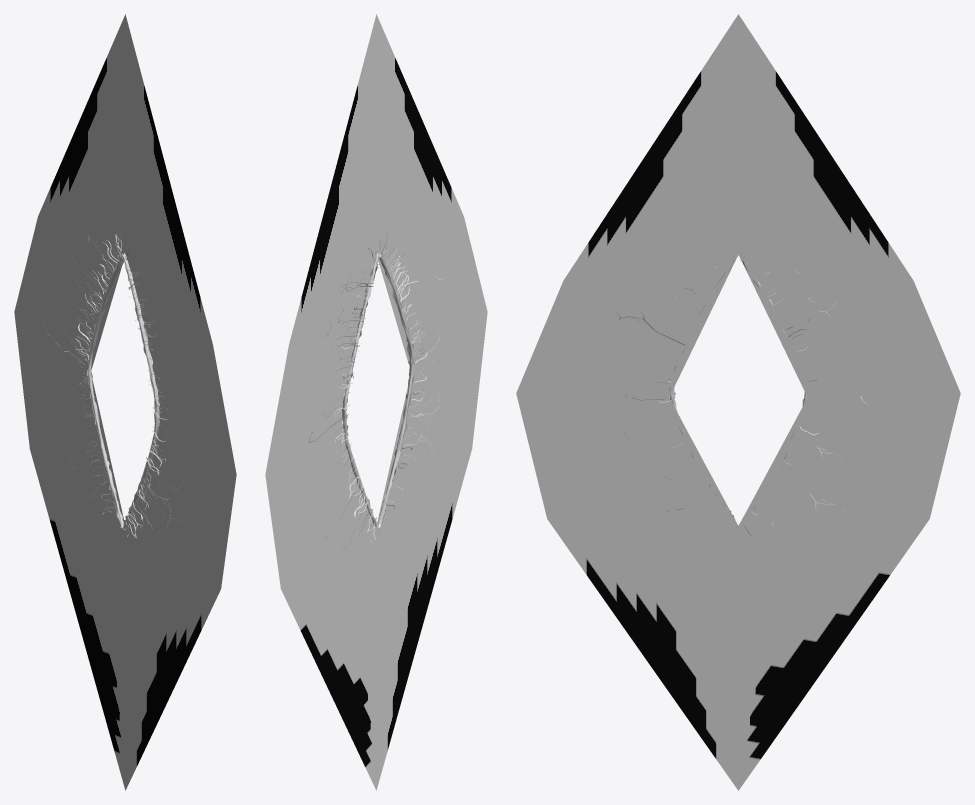
File: fenda.glb
The picture shows the model from 3 angles, left to right: view 1: azimuth 30°, elevation 25°; view 2: azimuth 150°, elevation 25°; view 3: azimuth 270°, elevation 25°; orthographic projection.
Parts seen in each view (by area): view 1: Rift; view 2: Rift; view 3: Rift.
Part boxes in pixels (x1=…): Rift: x1=14, y1=14, x2=236, y2=790; Rift: x1=265, y1=14, x2=487, y2=790; Rift: x1=516, y1=14, x2=960, y2=790.
Bounding box in the file's own units: 0.1642 × 6.09 × 3.16.
Materials: 2 (1 with a texture image).
